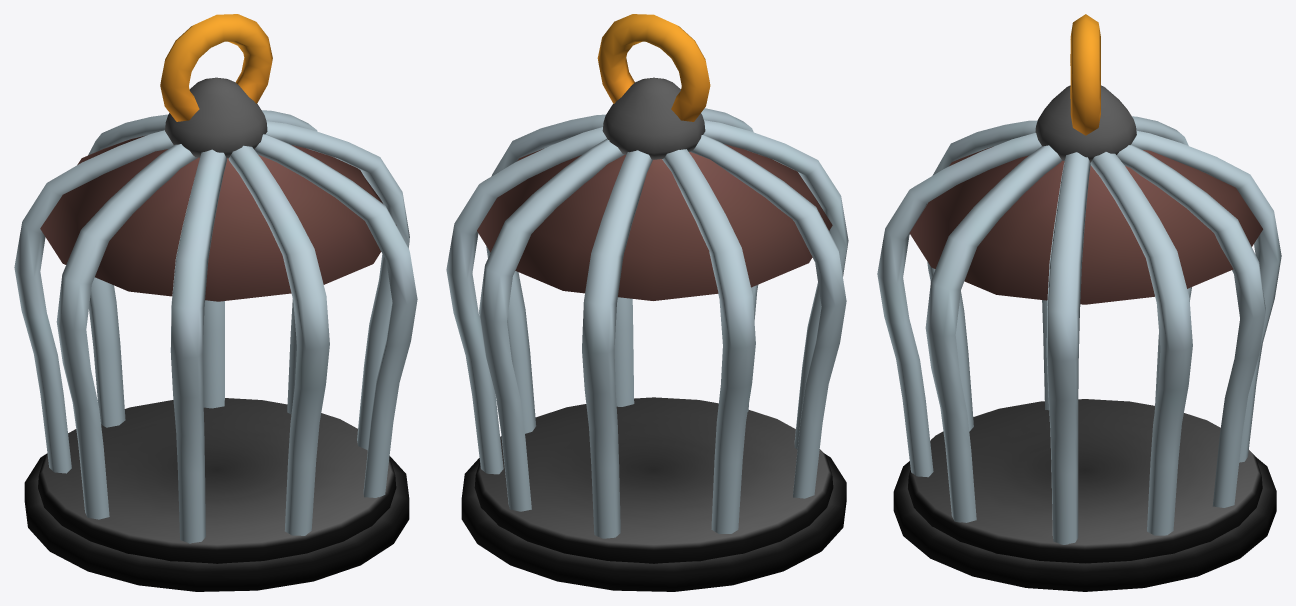
Rendered from Obstacle_Cage.fbx.
3 renders of one model, left to right at view 1: azimuth 30°, elevation 25°; view 2: azimuth 150°, elevation 25°; view 3: azimuth 270°, elevation 25°, orthographic.
Visible parts, largest first — view 1: Obstacle_Cage; view 2: Obstacle_Cage; view 3: Obstacle_Cage.
Part boxes in pixels (x1,y1,x2,y2): Obstacle_Cage: (14, 14, 417, 591); Obstacle_Cage: (446, 14, 848, 591); Obstacle_Cage: (877, 14, 1281, 591).
Bounding box in the file's own units: 97.11 × 130 × 96.72.
